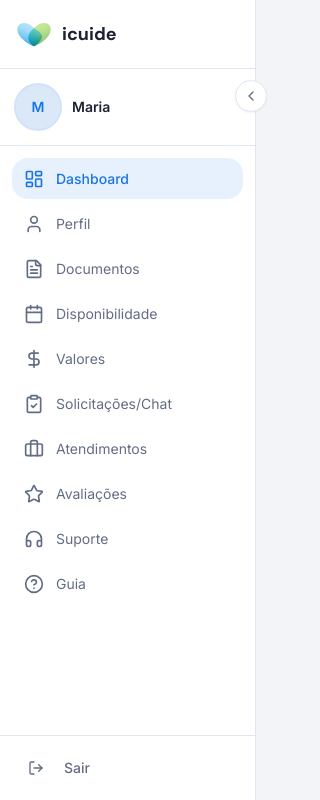
Test case: AppSidebar › expande sidebar ao clicar no botão de toggle quando colapsada
This screenshot has width=320, height=800.
Click the button named "Recolher menu" at (251, 96), box top-left (235, 80), bottom-right (267, 112)
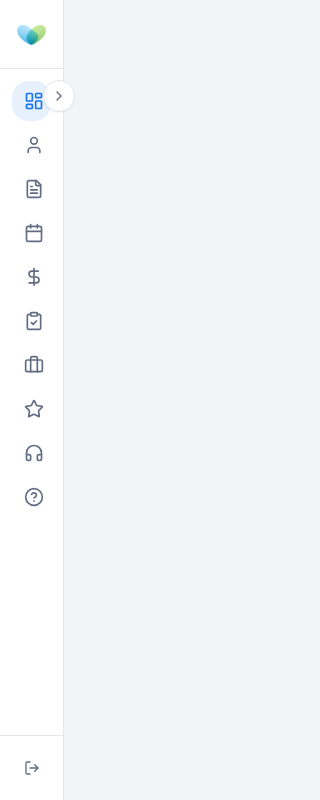
Click the button named "Expandir menu" at (59, 96), box top-left (43, 80), bottom-right (75, 112)
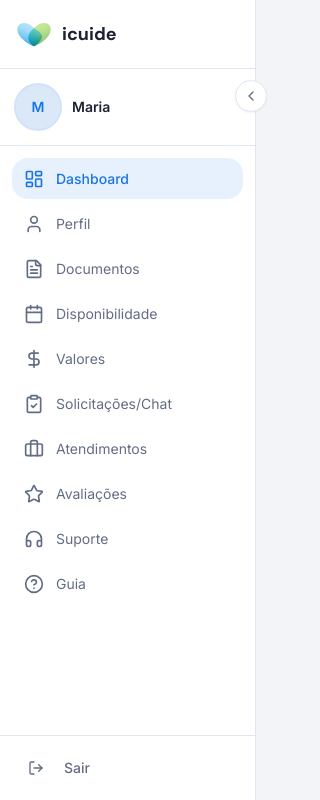
Result: the text "Maria" is shown at top-left (72, 98), bottom-right (110, 115)
Result: the text "icuide" is shown at top-left (62, 20), bottom-right (116, 48)
